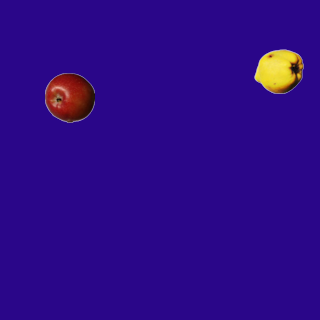Apple Braeburn: (44, 72, 94, 122)
Quince: (253, 46, 303, 96)
